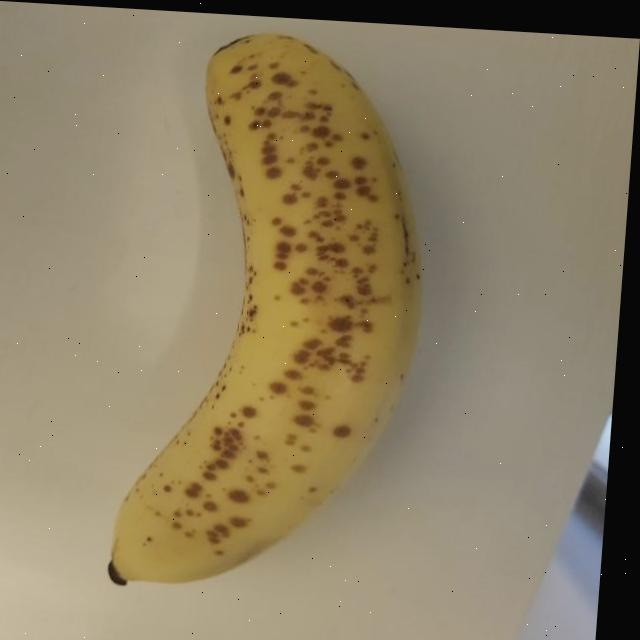banana: (101, 23, 441, 605)
